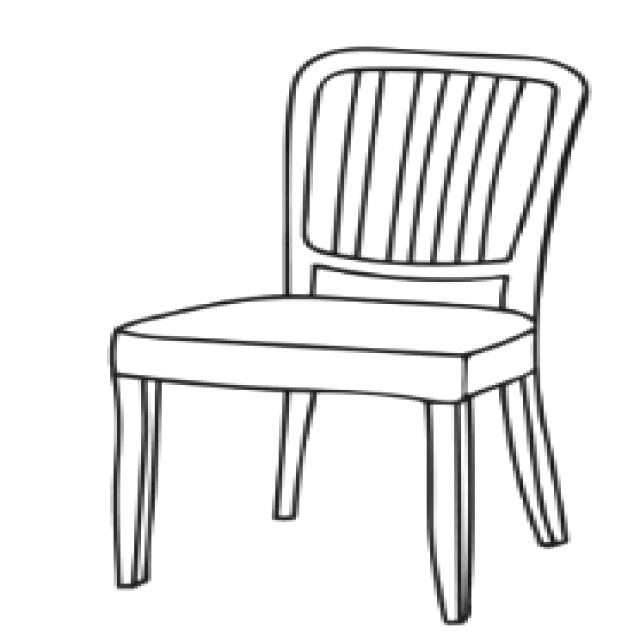Backrest: (280, 49, 591, 319)
Leg_Structure: (105, 364, 580, 632)
Seat: (102, 291, 540, 398)
